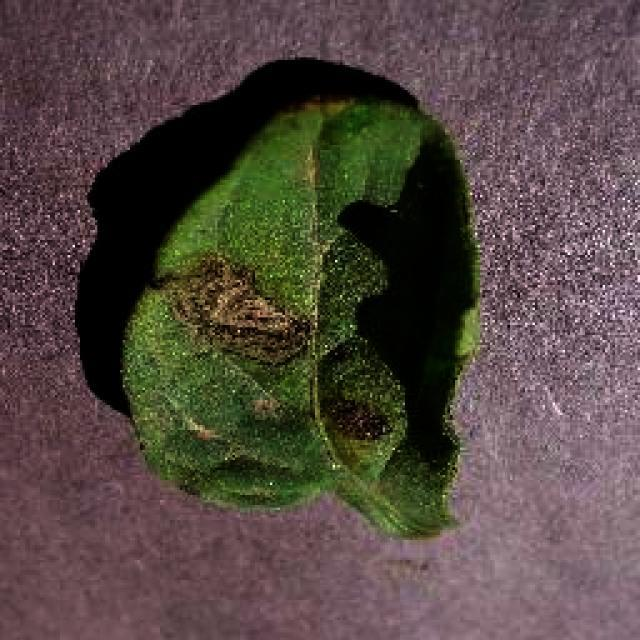Tomato Early blight leaf: (124, 100, 478, 540)
